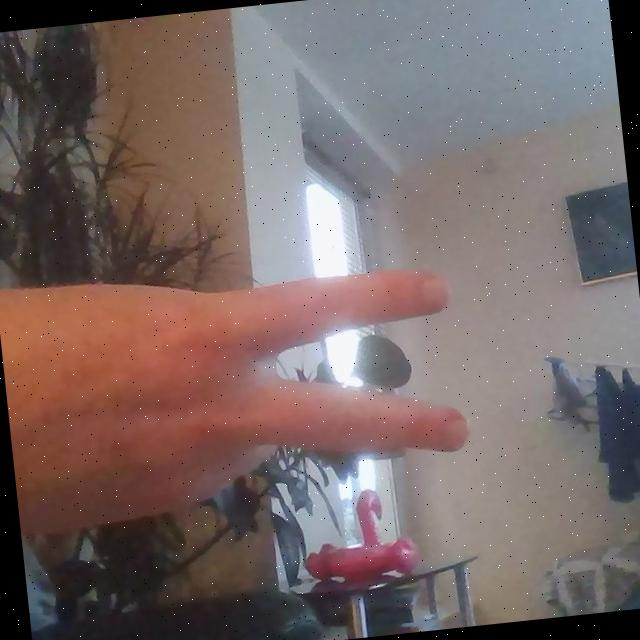scissors: (110, 241, 477, 521)
